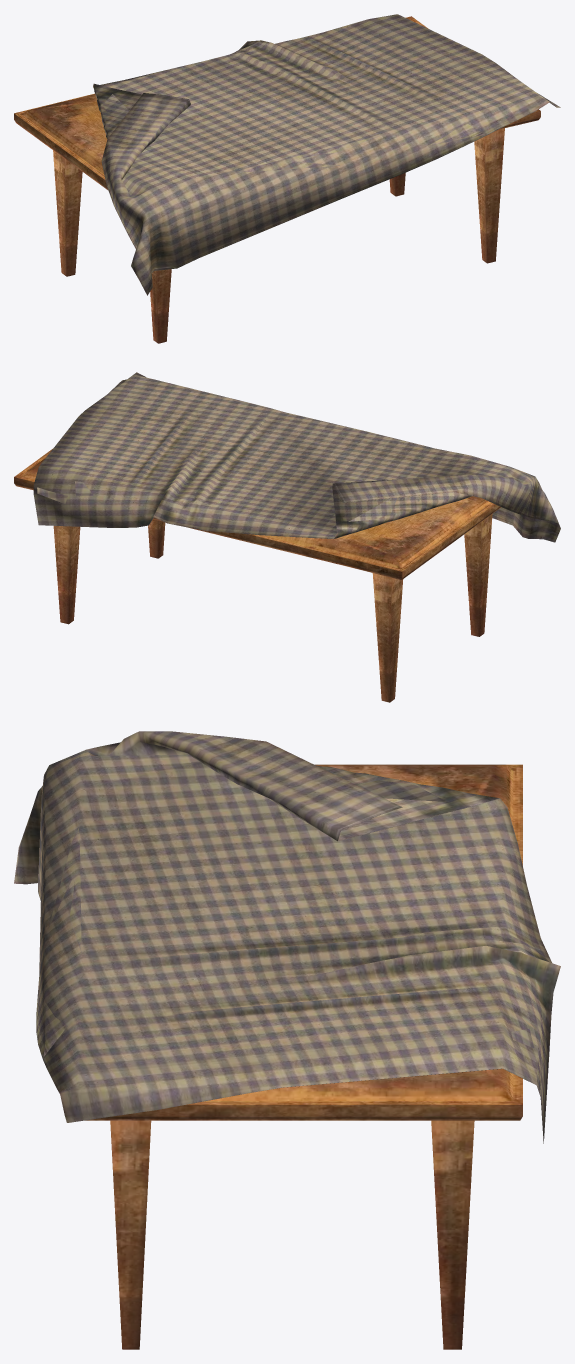
The model's file is dining_table.glb.
The picture shows the model from 3 angles, top to bottom: view 1: azimuth 30°, elevation 25°; view 2: azimuth 150°, elevation 25°; view 3: azimuth 270°, elevation 25°; orthographic projection. The views are drawn at different scales.
Parts seen in each view (by area): view 1: dining_table; view 2: dining_table; view 3: dining_table.
Boxes of the visible parts, x1,y1,x2,y2 form: dining_table: (14, 14, 560, 343); dining_table: (14, 372, 560, 702); dining_table: (14, 731, 560, 1349).
Size of the model in its own units: 2.26 by 0.877 by 1.39.
1 material, 1 textured.
